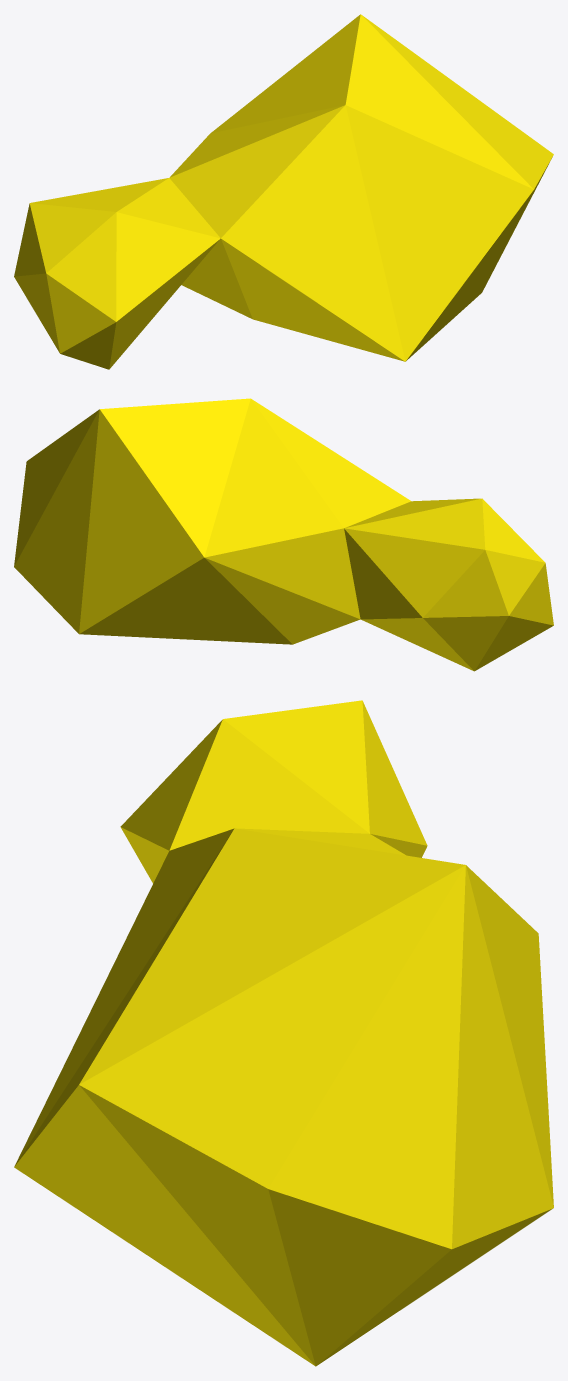
The model's file is fireflyLow2.obj.
The picture shows the model from 3 angles, top to bottom: view 1: azimuth 30°, elevation 25°; view 2: azimuth 150°, elevation 25°; view 3: azimuth 270°, elevation 25°; orthographic projection. The views are drawn at different scales.
Visible parts, largest first — view 1: Icosphere; view 2: Icosphere; view 3: Icosphere.
Boxes of the visible parts, <box> form: Icosphere: <box>14,14,553,369</box>; Icosphere: <box>14,398,553,671</box>; Icosphere: <box>14,700,553,1366</box>.
Size of the model in its own units: 0.9493 by 0.4623 by 0.5145.
